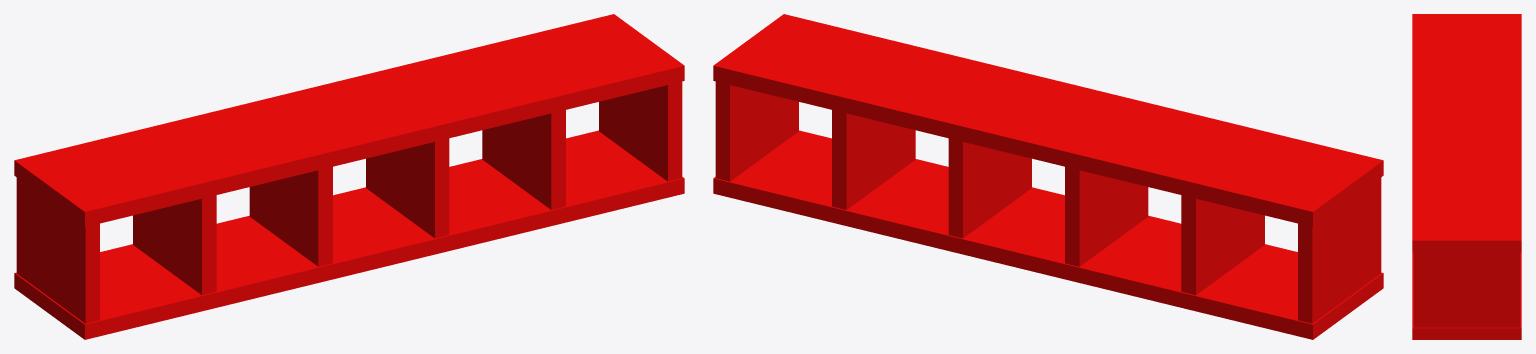
Rendered from Shelf.fbx.
3 views of the same model, side by side, from view 1: azimuth 30°, elevation 25°; view 2: azimuth 150°, elevation 25°; view 3: azimuth 270°, elevation 25° (orthographic). The views are drawn at different scales.
Parts seen in each view (by area): view 1: shelf; view 2: shelf; view 3: shelf.
Part boxes in pixels (box(x1,y1,x2,y2)): shelf: box(14, 14, 684, 339); shelf: box(713, 14, 1383, 339); shelf: box(1412, 14, 1521, 339).
Size of the model in its own units: 206 by 42 by 42.
